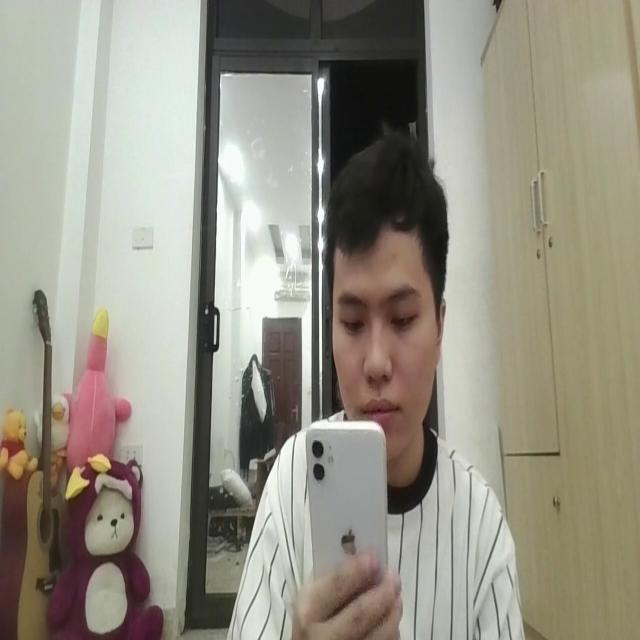phone: (307, 411, 390, 601)
student: (233, 121, 525, 640)
